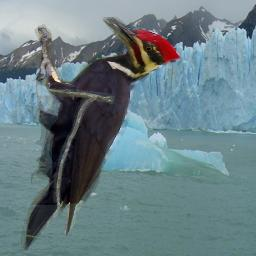Woodpecker: (21, 17, 182, 251)
